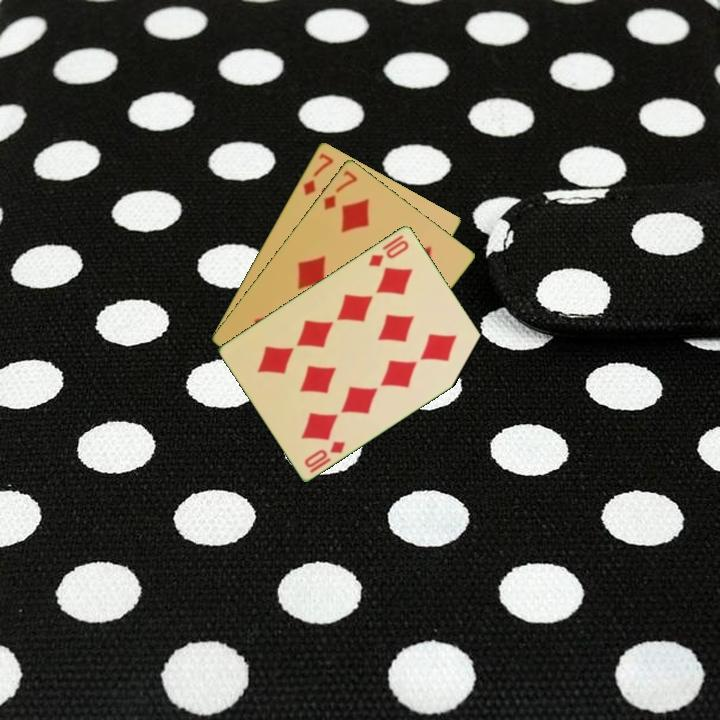10d: (301, 437, 348, 476), (365, 236, 412, 269)
7d: (320, 166, 360, 213), (299, 149, 336, 198)
